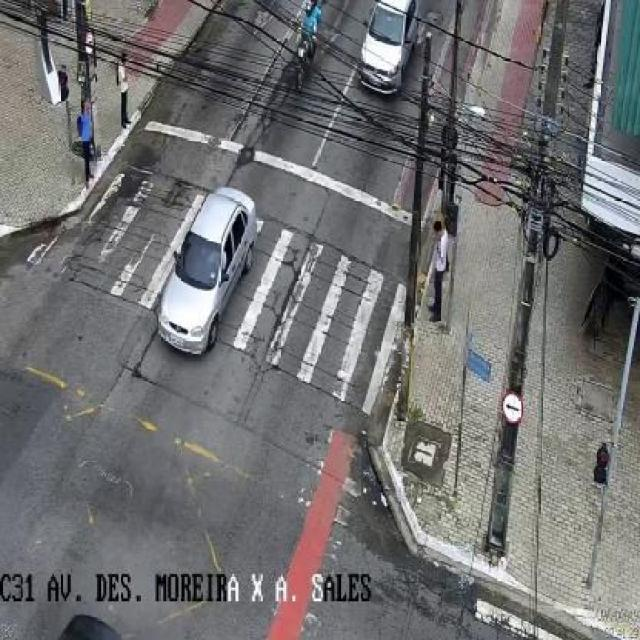Car: (158, 186, 258, 356), (356, 0, 421, 97)
Cycle: (291, 28, 319, 96)
